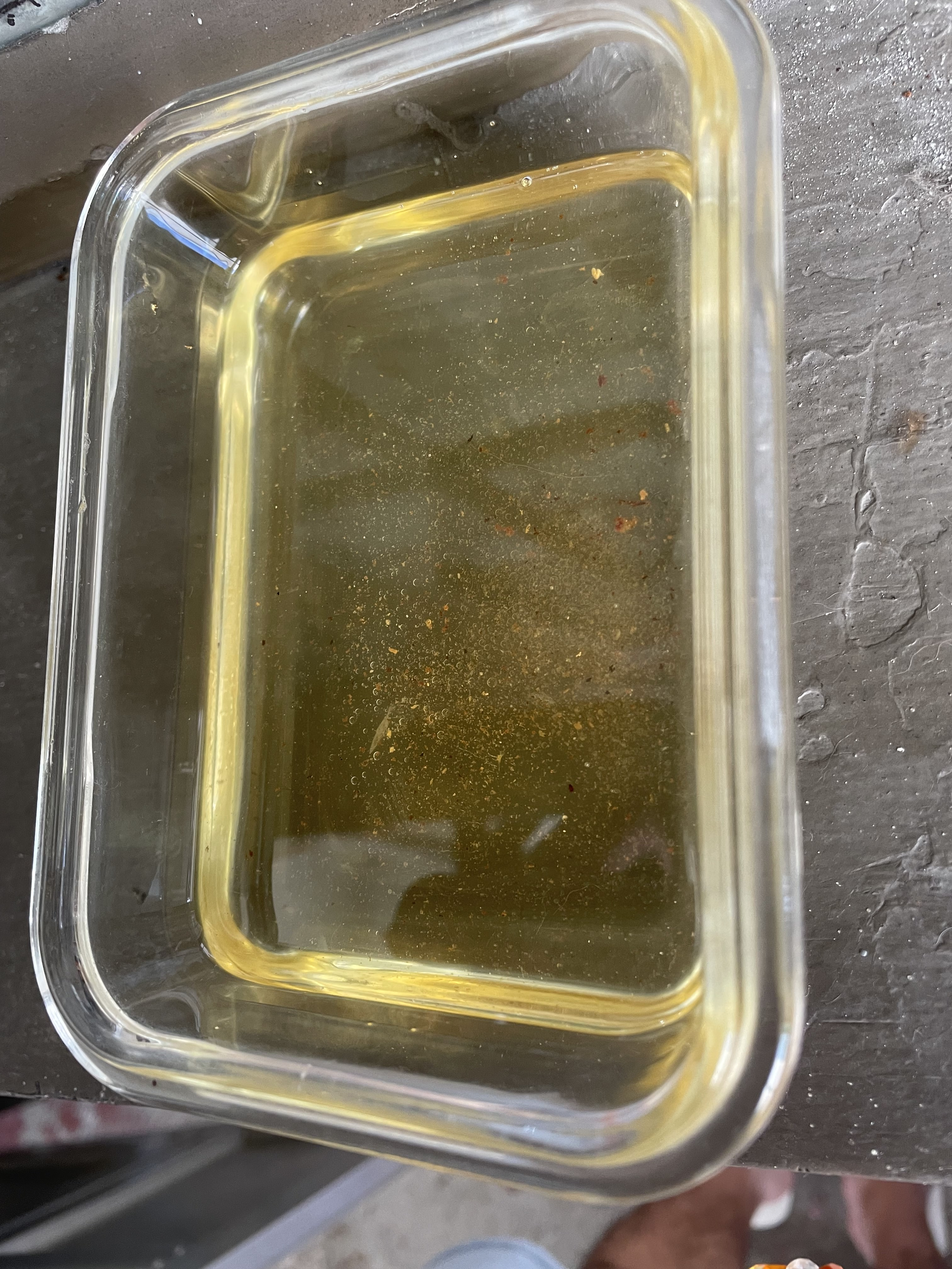reusable: (198, 154, 699, 1035)
